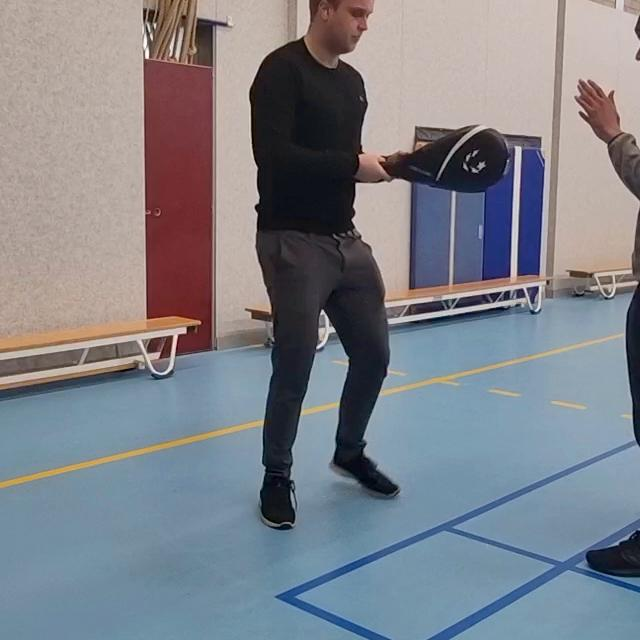paddle: (380, 121, 520, 197)
